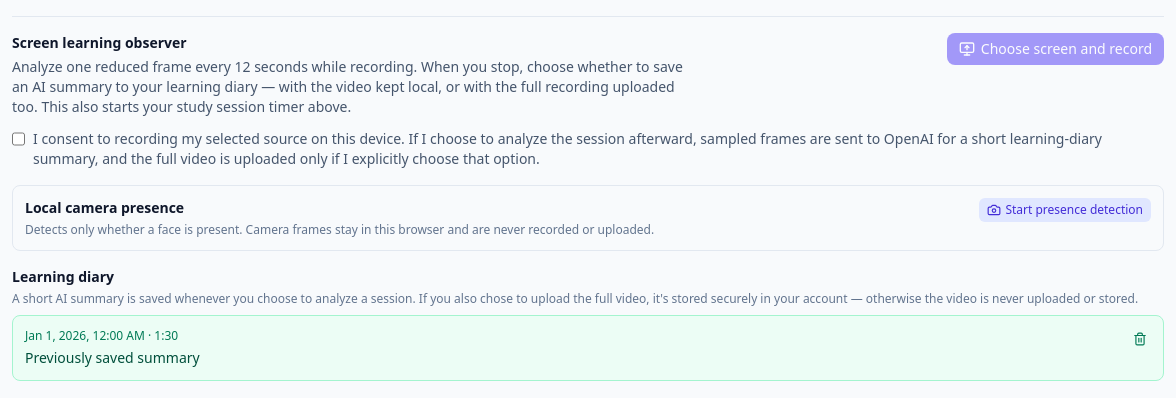
Scenario: ScreenShareMonitor › loads and deletes a learning diary entry
Expected: the text "Previously saved summary" is shown, [25,348,200,368]
Click the button named "delete diary entry".
click(1140, 339)  # box [1129,328,1151,350]
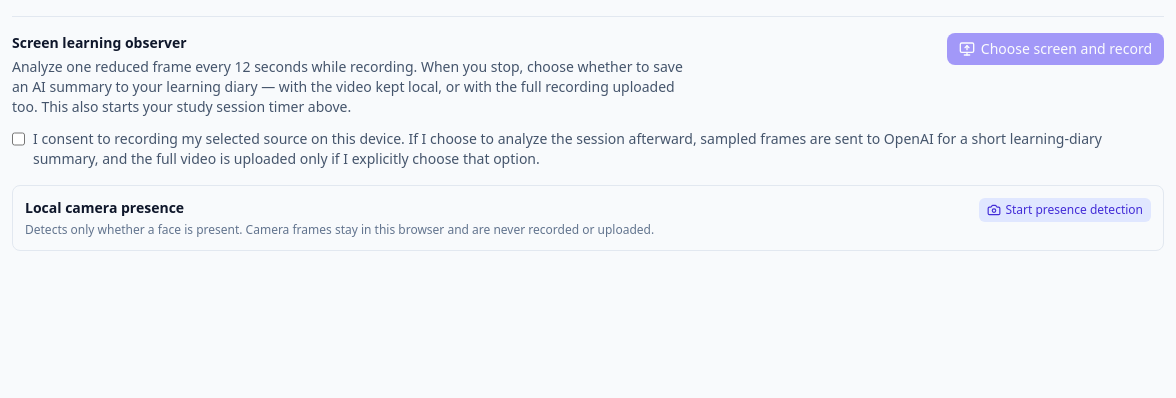
Expected: the text "Previously saved summary" is gone
